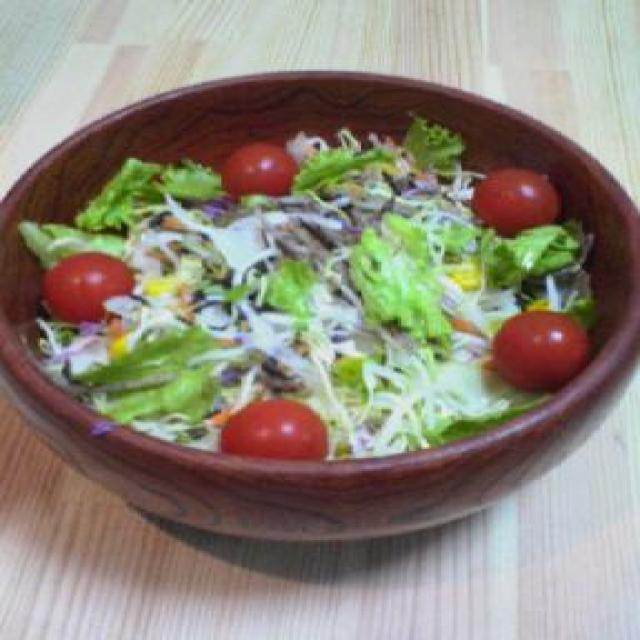Green Salad: (46, 120, 582, 464)
